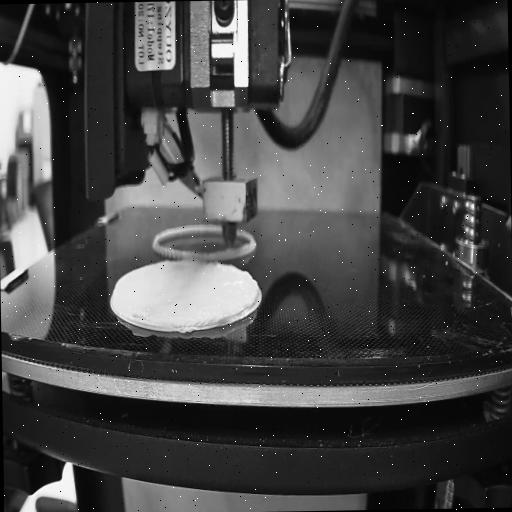over_extrusion: (243, 269, 263, 315)
